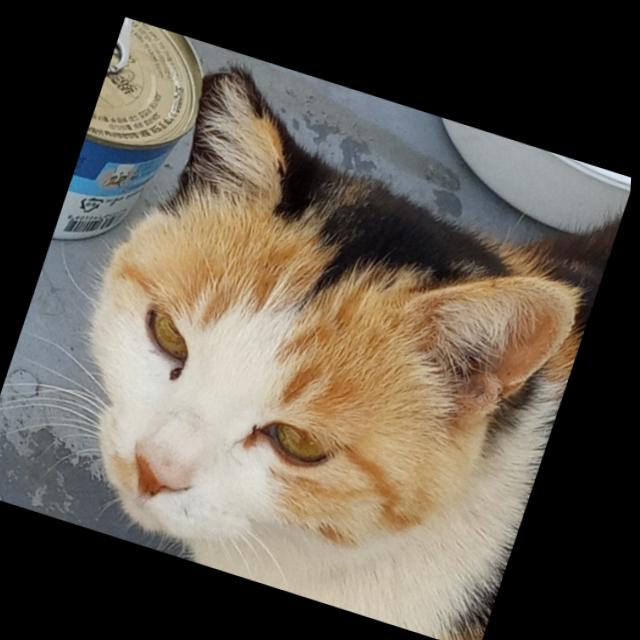animals: (13, 41, 634, 640)
